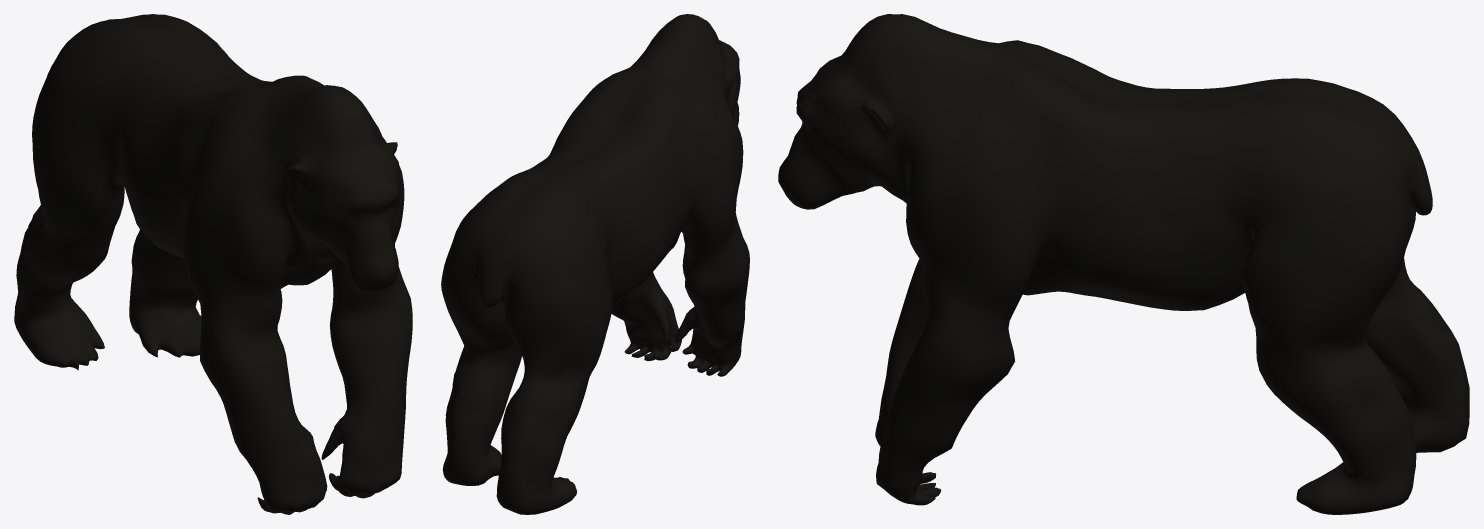
3 renders of one model, left to right at view 1: azimuth 30°, elevation 25°; view 2: azimuth 150°, elevation 25°; view 3: azimuth 270°, elevation 25°, orthographic. The views are drawn at different scales.
Parts seen in each view (by area): view 1: GorilleFree_0; view 2: GorilleFree_0; view 3: GorilleFree_0.
Boxes of the visible parts, <box> form: GorilleFree_0: <box>14,14,412,514</box>; GorilleFree_0: <box>441,14,749,514</box>; GorilleFree_0: <box>778,14,1469,514</box>.
Bounding box in the file's own units: 0.7375 × 1.47 × 1.99.
1 material, 1 textured.
